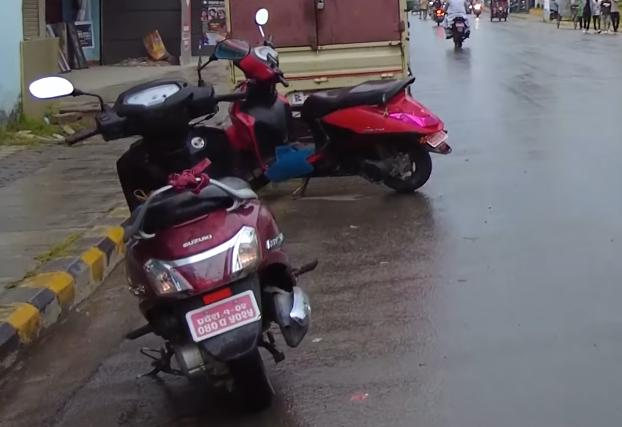scooter: (28, 32, 319, 427), (199, 21, 458, 191)
